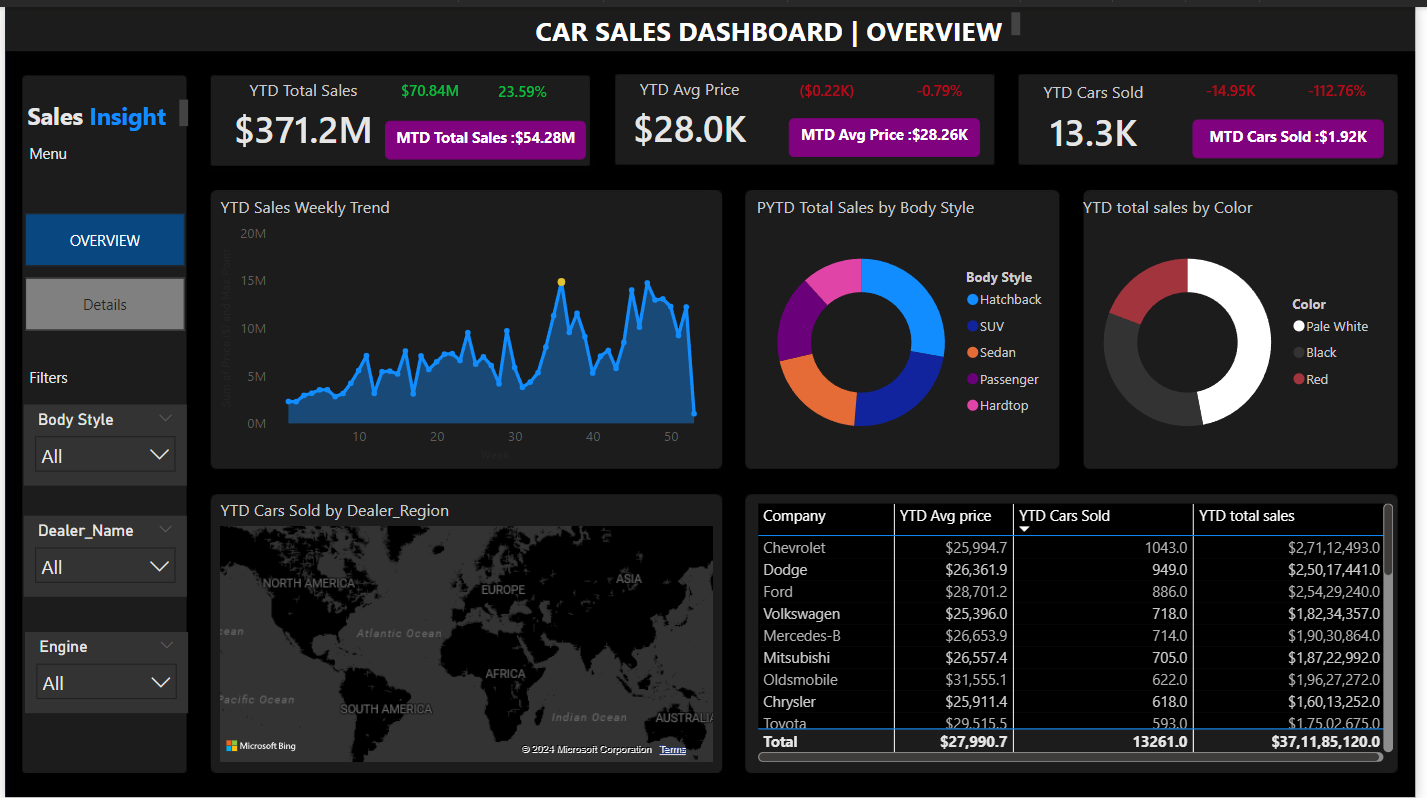

What the dashboard file says about the page in this screenshot:
{"tool":"powerbi","page":{"name":"OVERVIEW","canvas":[1280,720],"ordinal":0},"visuals":[{"type":"card","title":"YTD Total Sales","fields":{"Values":["car_data.YTD total sales"]},"box":[190.7,65.1,160.5,73.3],"z":0},{"type":"card","fields":{"Values":["car_data.Sales Difference"]},"box":[351.2,65.1,68.6,27.9],"z":1000},{"type":"card","fields":{"Values":["car_data.YOY Sales Growth"]},"box":[436,54.7,68.6,48.8],"z":2000},{"type":"card","fields":{"Values":["car_data.MTD KPI"]},"box":[345.3,103.5,182.6,34.9],"z":3000},{"type":"card","title":"YTD Avg Price","fields":{"Values":["car_data.YTD Avg price"]},"box":[540.7,64,160.5,73.3],"z":4000},{"type":"card","fields":{"Values":["car_data.Avg Price Diff"]},"box":[711.6,65.1,68.6,27.9],"z":5000},{"type":"card","fields":{"Values":["car_data.YOY Avg Price Growth"]},"box":[812.8,65.1,68.6,27.9],"z":6000},{"type":"card","fields":{"Values":["car_data.MTD Avg Price KPI"]},"box":[711.6,101.2,173.3,34.9],"z":7000},{"type":"card","title":"YTD Cars Sold","fields":{"Values":["car_data.YTD Cars Sold"]},"box":[907,67.4,160.5,73.3],"z":8000},{"type":"card","fields":{"Values":["car_data.Cars Sold Diff"]},"box":[1077.9,65.1,68.6,27.9],"z":9000},{"type":"card","fields":{"Values":["car_data.YOY Car Sold Growth"]},"box":[1174.4,65.1,68.6,27.9],"z":10000},{"type":"card","fields":{"Values":["car_data.MTD Cars Sold KPI"]},"box":[1077.9,102.3,173.3,34.9],"z":11000},{"type":"areaChart","title":"YTD Sales Weekly Trend","fields":{"Category":["calender_table.Week"],"Y":["Sum(car_data.Price ($))","car_data.Max Point"]},"box":[190.7,170.9,457,246.5],"z":12000},{"type":"donutChart","fields":{"Category":["car_data.Body Style"],"Y":["car_data.PYTD Total Sales"]},"box":[676.7,170.9,277.9,246.5],"z":13000},{"type":"donutChart","fields":{"Category":["car_data.Color"],"Y":["car_data.YTD total sales"]},"box":[973.3,170.9,277.9,246.5],"z":14000},{"type":"map","fields":{"Series":["car_data.Dealer_Region"],"Size":["car_data.YTD Cars Sold"]},"box":[190.7,445.4,457,244.2],"z":15000},{"type":"tableEx","fields":{"Values":["car_data.Company","car_data.YTD Avg price","car_data.YTD Cars Sold","car_data.YTD total sales"]},"box":[676.7,445.4,587.2,244.2],"z":16000},{"type":"textbox","box":[476.7,0,450,41.9],"z":17000},{"type":"slicer","fields":{"Values":["car_data.Body Style"]},"box":[17.4,360.5,147.7,73.3],"z":18000},{"type":"slicer","fields":{"Values":["car_data.Dealer_Region"]},"box":[17.4,461.6,147.7,73.3],"z":19000},{"type":"textbox","box":[17.4,322.1,147.7,30.2],"z":20000},{"type":"slicer","fields":{"Values":["car_data.Engine"]},"box":[18.6,567.4,147.7,73.3],"z":21000},{"type":"textbox","box":[18.6,81.4,150,37.2],"z":22000},{"type":"textbox","box":[17.4,118.6,147.7,30.2],"z":22001},{"type":"pageNavigator","box":[18.6,187.2,145.3,107],"z":22002}]}

Visuals, with their boxes on the page's 1280x720 design canvas (x1, y1, x2, y2). These are canvas units, not pixel positions in the 1427x798 screenshot, which may show the page scaled, cropped or inside an application window:
"YTD Total Sales" card: pyautogui.locateOnScreen(191, 65, 351, 138)
card - car_data.Sales Difference: pyautogui.locateOnScreen(351, 65, 420, 93)
card - car_data.YOY Sales Growth: pyautogui.locateOnScreen(436, 55, 505, 104)
card - car_data.MTD KPI: pyautogui.locateOnScreen(345, 104, 528, 138)
"YTD Avg Price" card: pyautogui.locateOnScreen(541, 64, 701, 137)
card - car_data.Avg Price Diff: pyautogui.locateOnScreen(712, 65, 780, 93)
card - car_data.YOY Avg Price Growth: pyautogui.locateOnScreen(813, 65, 881, 93)
card - car_data.MTD Avg Price KPI: pyautogui.locateOnScreen(712, 101, 885, 136)
"YTD Cars Sold" card: pyautogui.locateOnScreen(907, 67, 1068, 141)
card - car_data.Cars Sold Diff: pyautogui.locateOnScreen(1078, 65, 1146, 93)
card - car_data.YOY Car Sold Growth: pyautogui.locateOnScreen(1174, 65, 1243, 93)
card - car_data.MTD Cars Sold KPI: pyautogui.locateOnScreen(1078, 102, 1251, 137)
"YTD Sales Weekly Trend" areaChart: pyautogui.locateOnScreen(191, 171, 648, 417)
donutChart - car_data.Body Style x car_data.PYTD Total Sales: pyautogui.locateOnScreen(677, 171, 955, 417)
donutChart - car_data.Color x car_data.YTD total sales: pyautogui.locateOnScreen(973, 171, 1251, 417)
map - car_data.Dealer_Region x car_data.YTD Cars Sold: pyautogui.locateOnScreen(191, 445, 648, 690)
tableEx - car_data.Company x car_data.YTD Avg price: pyautogui.locateOnScreen(677, 445, 1264, 690)
textbox: pyautogui.locateOnScreen(477, 0, 927, 42)
slicer - car_data.Body Style: pyautogui.locateOnScreen(17, 360, 165, 434)
slicer - car_data.Dealer_Region: pyautogui.locateOnScreen(17, 462, 165, 535)
textbox: pyautogui.locateOnScreen(17, 322, 165, 352)
slicer - car_data.Engine: pyautogui.locateOnScreen(19, 567, 166, 641)
textbox: pyautogui.locateOnScreen(19, 81, 169, 119)
textbox: pyautogui.locateOnScreen(17, 119, 165, 149)
pageNavigator: pyautogui.locateOnScreen(19, 187, 164, 294)
